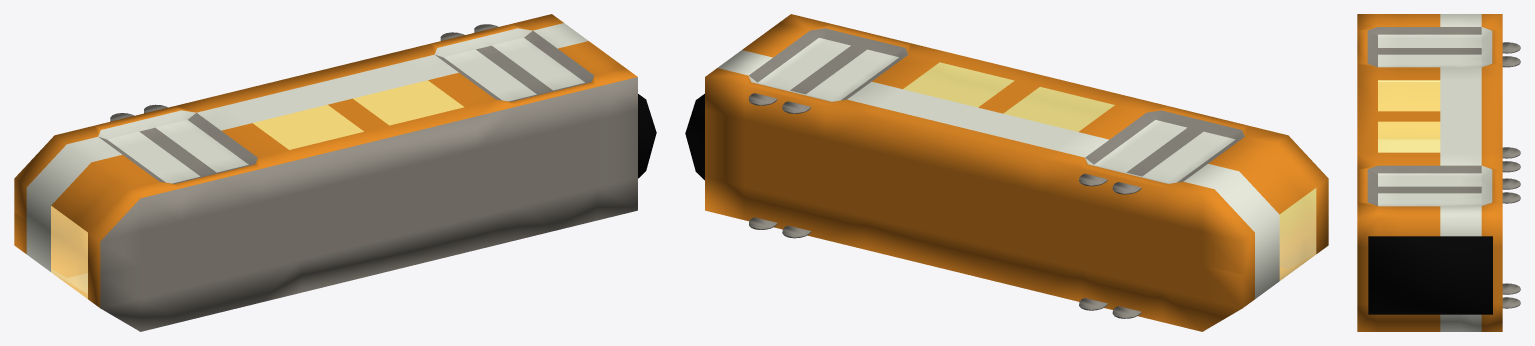
File: asset22.glb
3 views of the same model, side by side, from view 1: azimuth 30°, elevation 25°; view 2: azimuth 150°, elevation 25°; view 3: azimuth 270°, elevation 25° (orthographic). The views are drawn at different scales.
Visible parts, largest first — view 1: Cylinder4_sep10, Cylinder4_sep11, Cylinder4; view 2: Cylinder4_sep10, Cylinder4_sep11, Cylinder4; view 3: Cylinder4_sep10, Cylinder4, Cylinder4_sep11, Cylinder4_sep6, Cylinder4_sep2, Cylinder4_sep9, Cylinder4_sep8, Cylinder4_sep7, Cylinder4_sep5, Cylinder4_sep4, Cylinder4_sep3.
Part boxes in pixels (<box>): Cylinder4_sep10: <box>14,14,637,274</box>; Cylinder4_sep11: <box>14,104,637,331</box>; Cylinder4: <box>638,94,656,178</box>; Cylinder4_sep10: <box>705,14,1328,274</box>; Cylinder4_sep11: <box>705,144,1328,331</box>; Cylinder4: <box>685,94,704,180</box>; Cylinder4_sep10: <box>1357,14,1502,275</box>; Cylinder4: <box>1368,236,1492,314</box>; Cylinder4_sep11: <box>1357,82,1502,331</box>; Cylinder4_sep6: <box>1502,297,1520,308</box>; Cylinder4_sep2: <box>1502,192,1520,203</box>; Cylinder4_sep9: <box>1502,147,1520,158</box>; Cylinder4_sep8: <box>1502,161,1520,172</box>; Cylinder4_sep7: <box>1502,283,1520,294</box>; Cylinder4_sep5: <box>1502,42,1520,53</box>; Cylinder4_sep4: <box>1502,56,1520,67</box>; Cylinder4_sep3: <box>1502,178,1520,189</box>.
Size of the model in its own units: 1 by 0.2268 by 0.2979.
